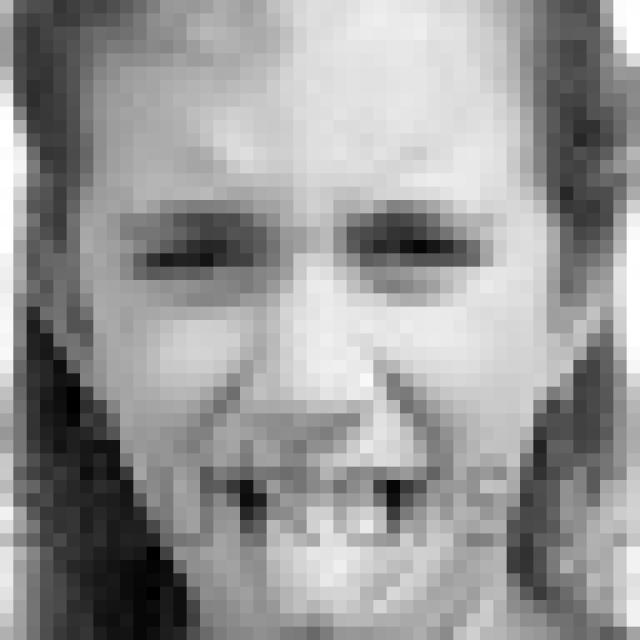disgust: (106, 173, 512, 640)
